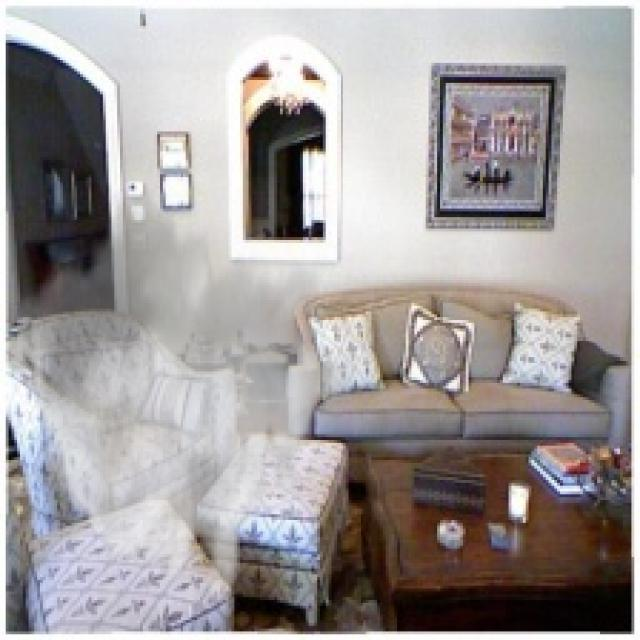Smoke: (6, 188, 354, 614)
